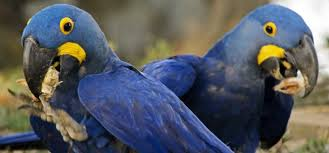guacamaya: (4, 2, 180, 153), (182, 2, 320, 153)
